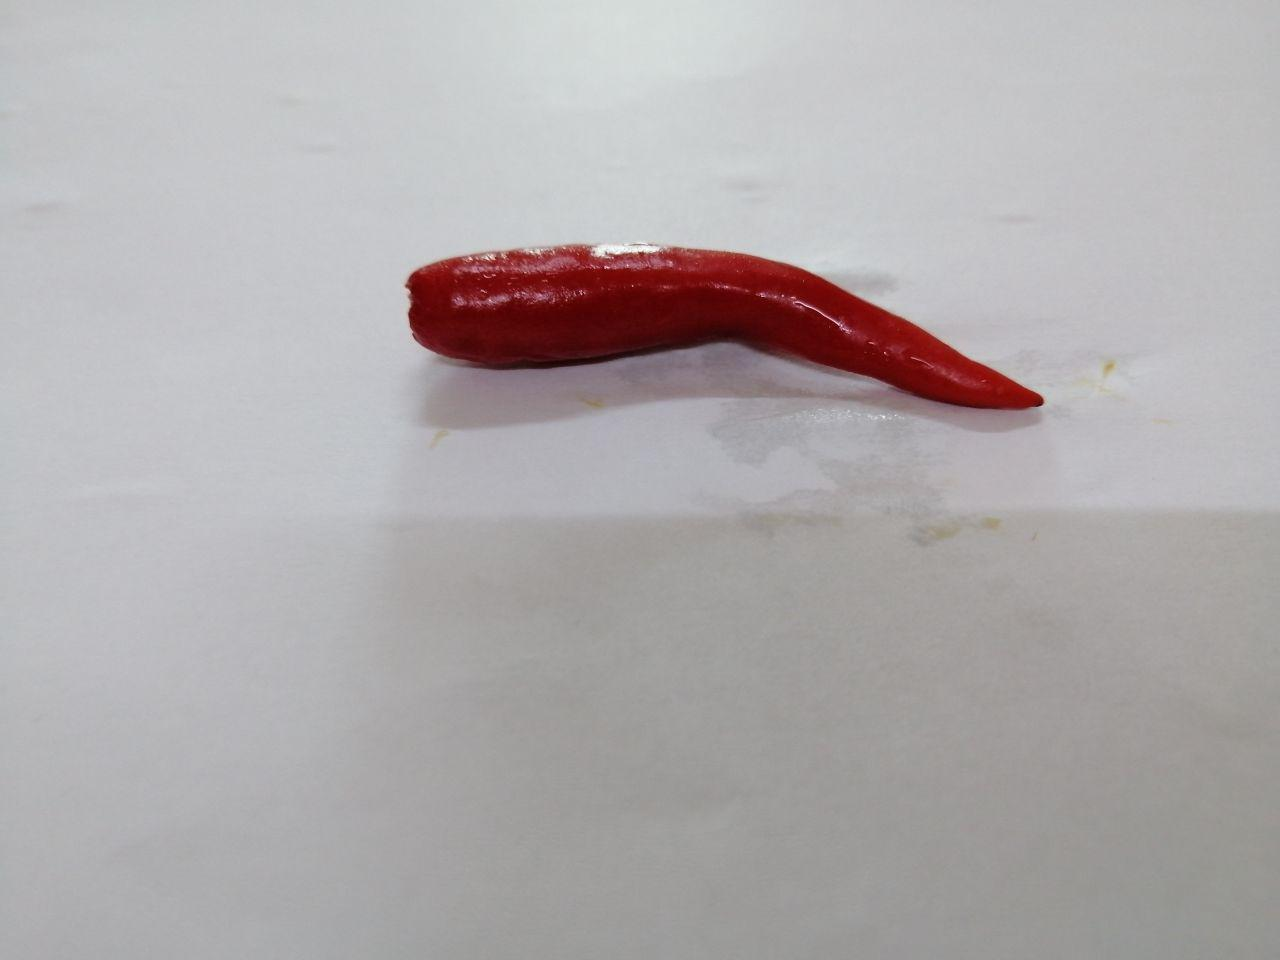lada merah: (393, 219, 1072, 474)
